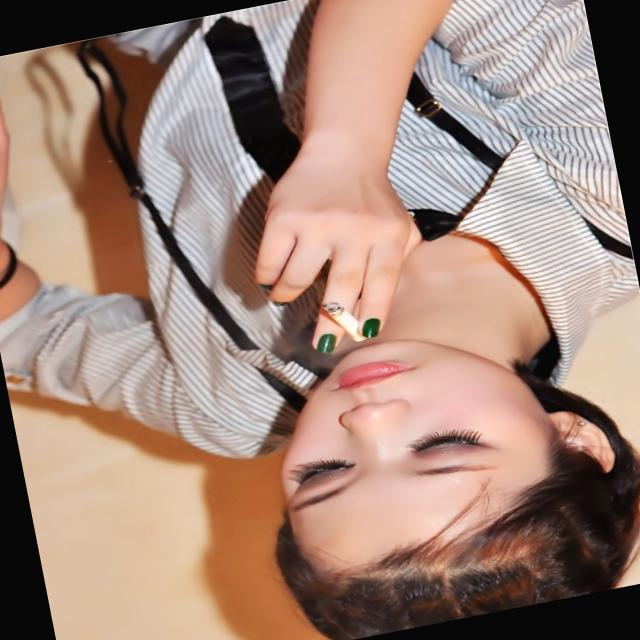smoke: (316, 288, 370, 347)
